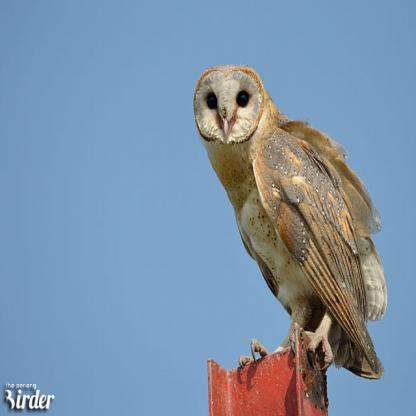Burung: (191, 64, 387, 378)
